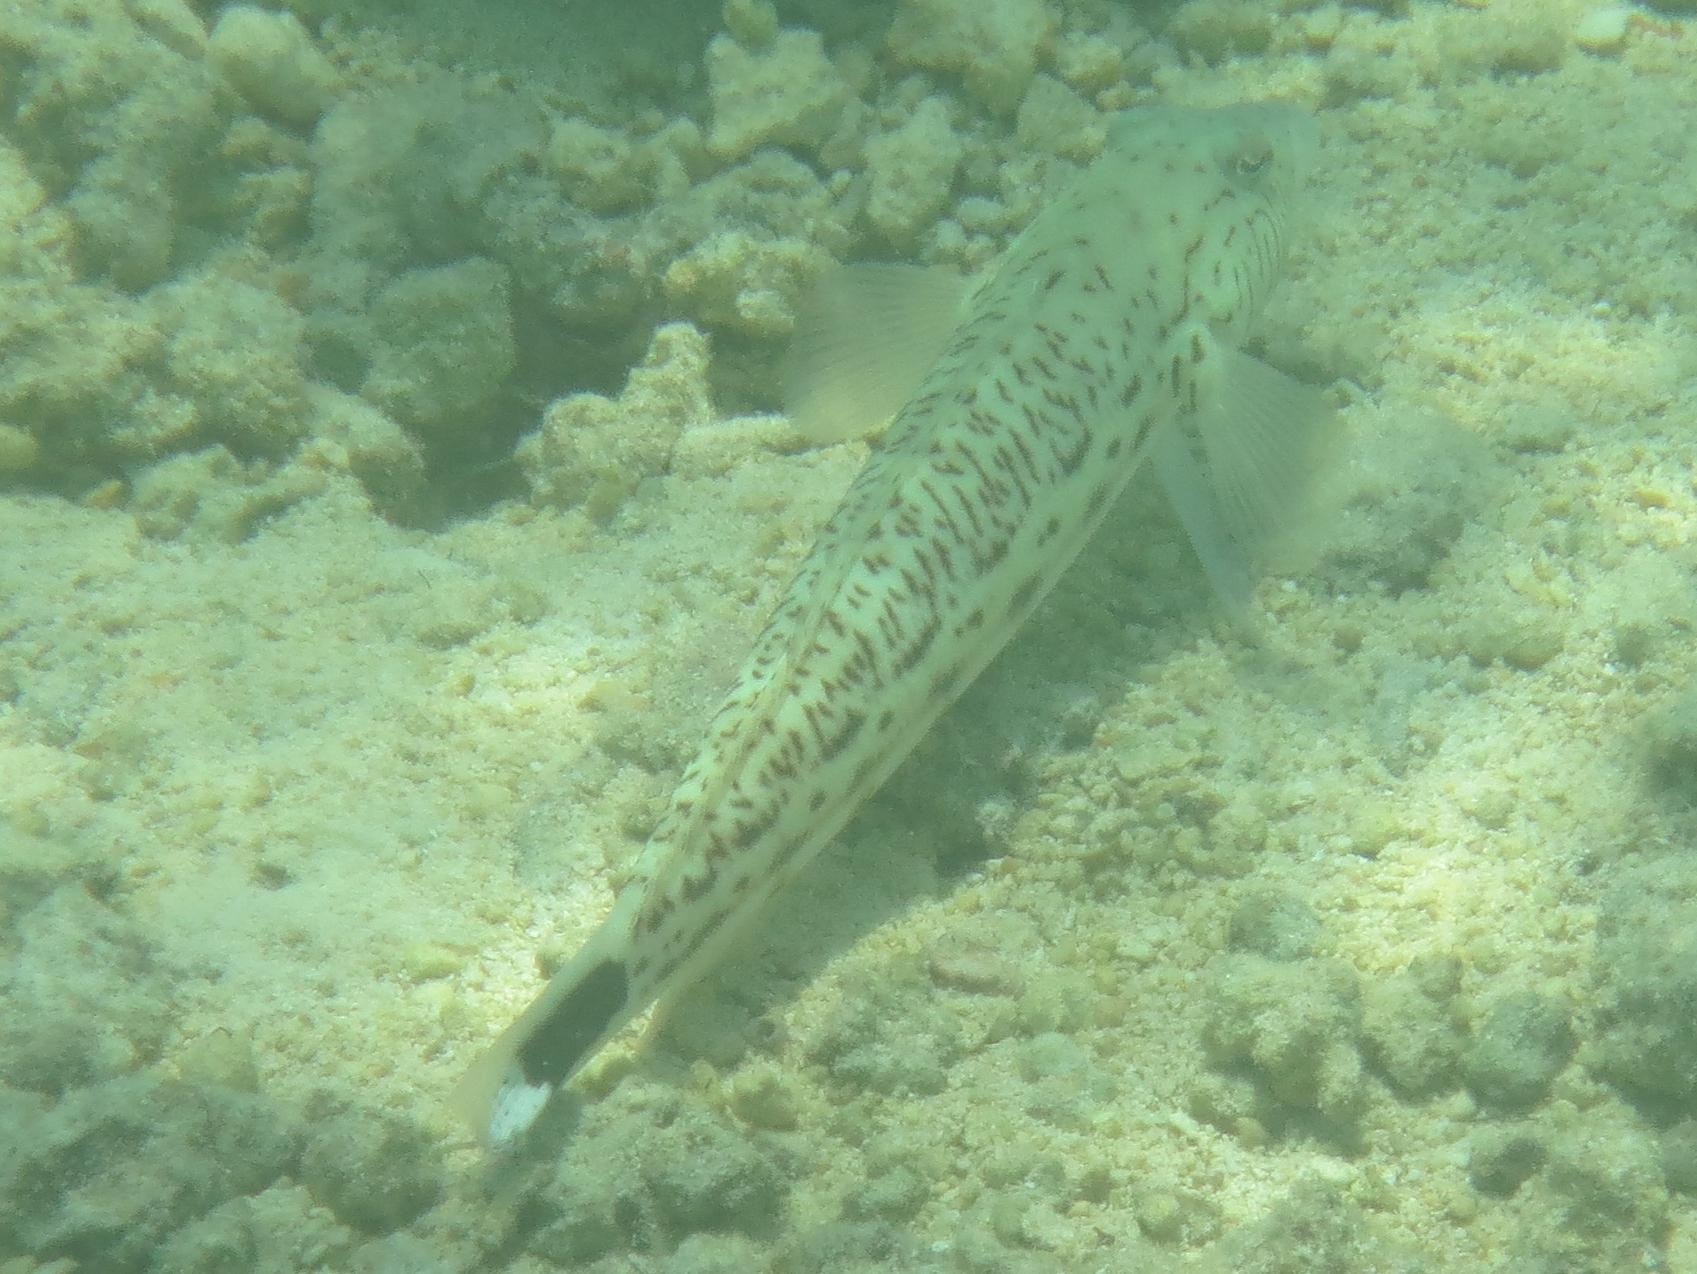Fish: (385, 66, 1353, 1163)
